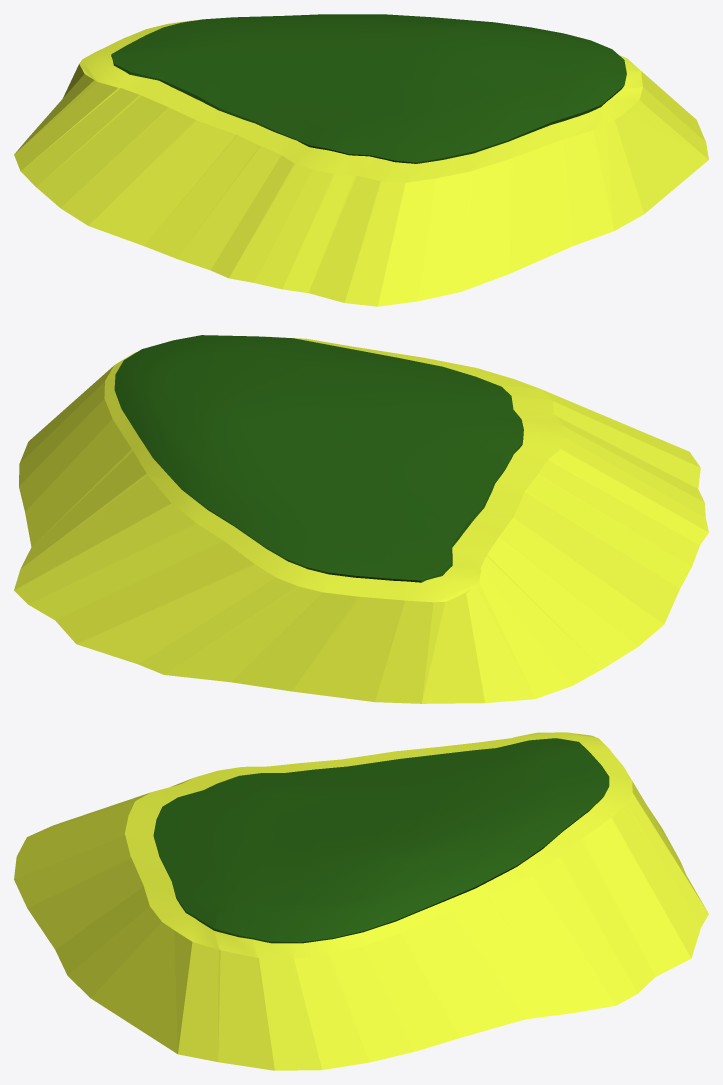
Rendered from Island 3.fbx.
The picture shows the model from 3 angles, top to bottom: view 1: azimuth 30°, elevation 25°; view 2: azimuth 150°, elevation 25°; view 3: azimuth 270°, elevation 25°; orthographic projection. The views are drawn at different scales.
Parts seen in each view (by area): view 1: Surface001, Surface002; view 2: Surface001, Surface002; view 3: Surface001, Surface002.
Boxes of the visible parts, x1,y1,x2,y2 form: Surface001: (14,20,708,306); Surface002: (111,14,626,163); Surface001: (14,336,708,703); Surface002: (114,335,523,582); Surface001: (14,732,708,1070); Surface002: (153,738,609,943).
Size of the model in its own units: 118 by 19.52 by 112.
